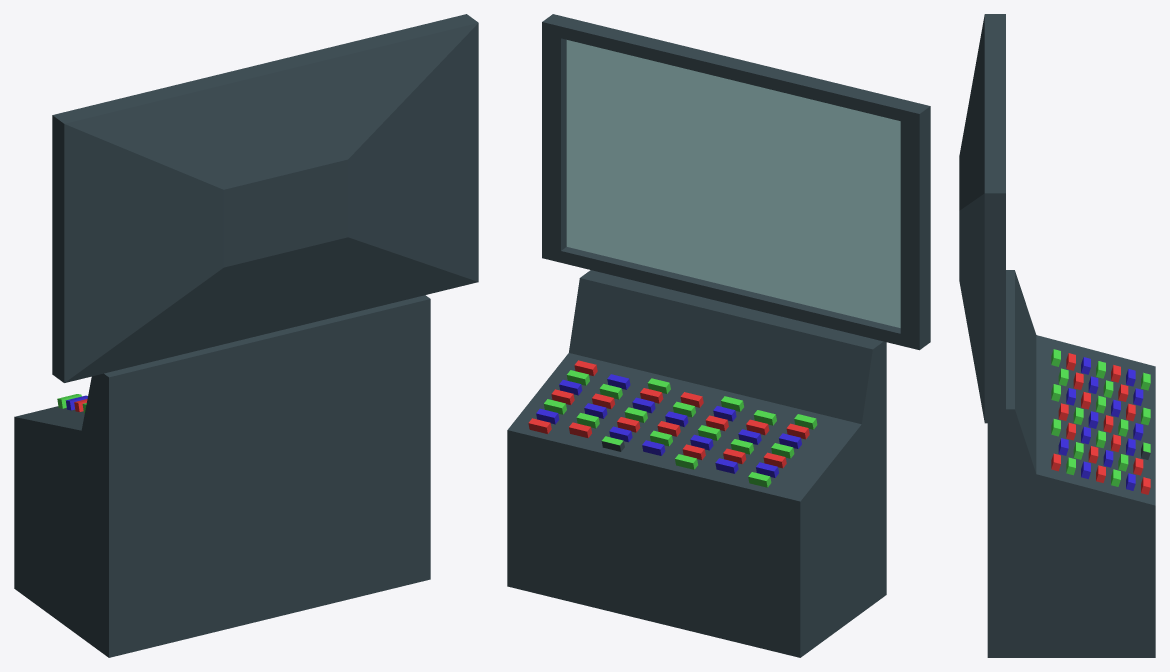
The model's file is LabComputer.gltf.
The picture shows the model from 3 angles, left to right: view 1: azimuth 30°, elevation 25°; view 2: azimuth 150°, elevation 25°; view 3: azimuth 270°, elevation 25°; orthographic projection. The views are drawn at different scales.
Visible parts, largest first — view 1: ScienceComputer; view 2: ScienceComputer; view 3: ScienceComputer.
Part boxes in pixels (box(x1,y1,x2,y2)): ScienceComputer: box(14, 14, 478, 657); ScienceComputer: box(507, 14, 930, 657); ScienceComputer: box(959, 14, 1155, 657).
Size of the model in its own units: 5.05 by 6.37 by 2.34.
